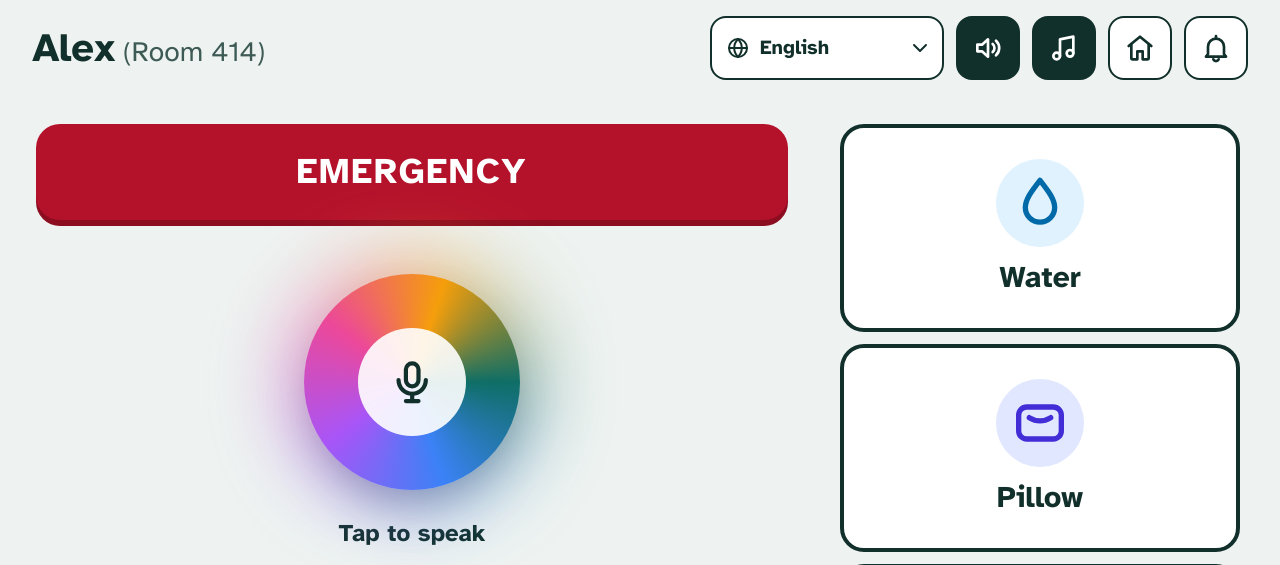
it: Patient accessibility layouts (US-4) › low vision: no text box, mic kept, large tiles, reads the pressed button and result aloud
This screenshot has width=1280, height=565.
expect the heading "Alex (Room 414)" is shown: met, box [32,23,265,73]
expect the button named "tap to speak" is shown: met, box [304,274,520,490]
Click the button "Pillow".
click(1040, 448)  # box [840,344,1240,552]
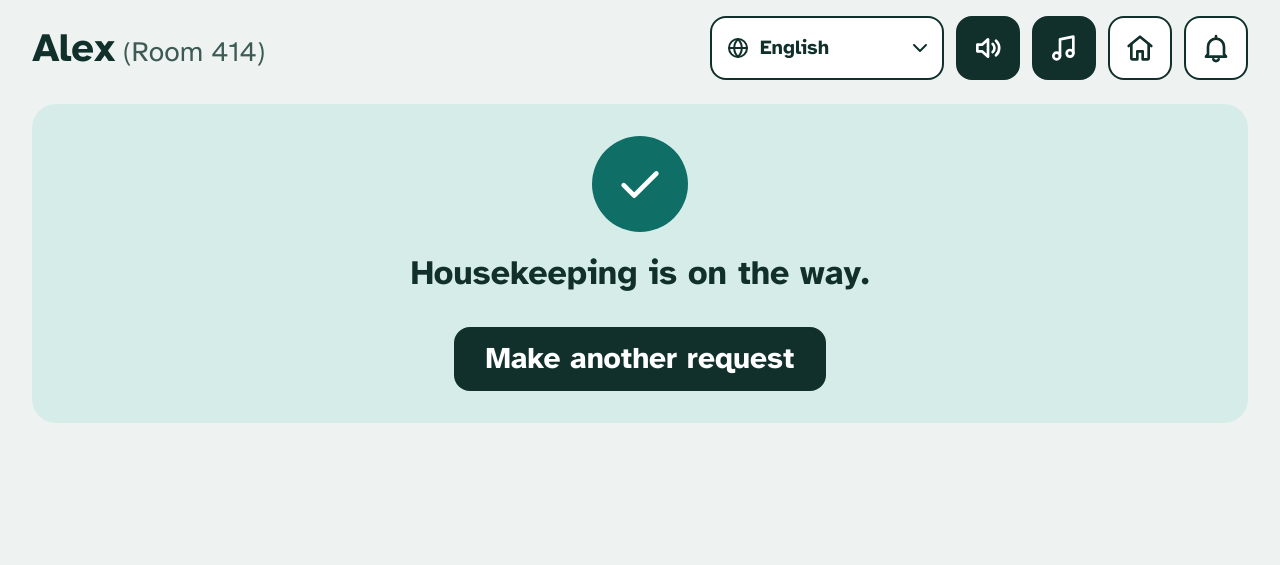
expect the message "Housekeeping is on the way. Make another request" is shown: met, box [32,104,1248,422]
